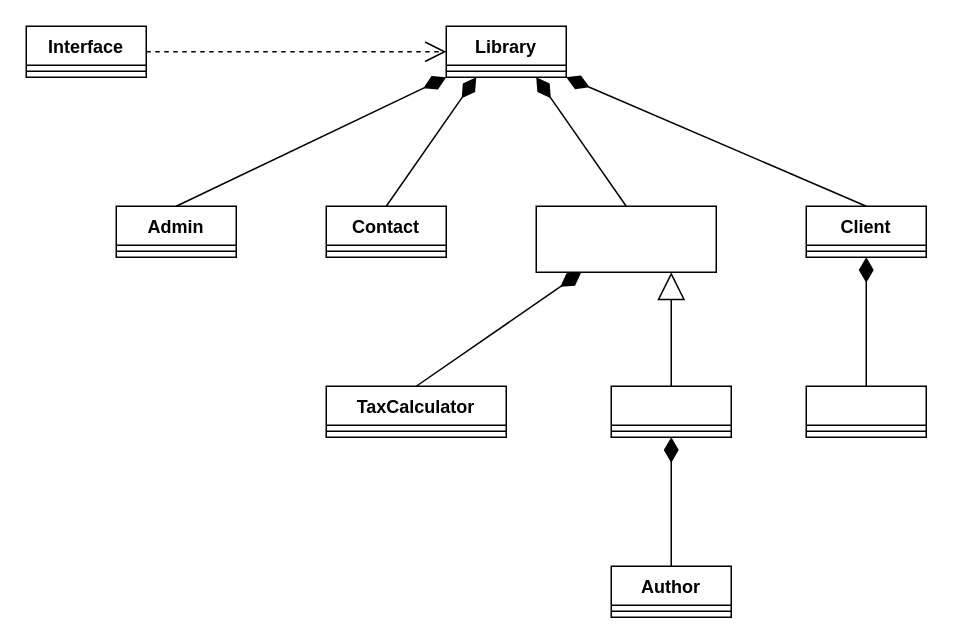
This 953x644 diagram has some shape labels left out. Each missing label, with the centre of its shape:
<<Interface>> Product: point (625, 238)
Book: point (670, 411)
Purchase: point (865, 411)
